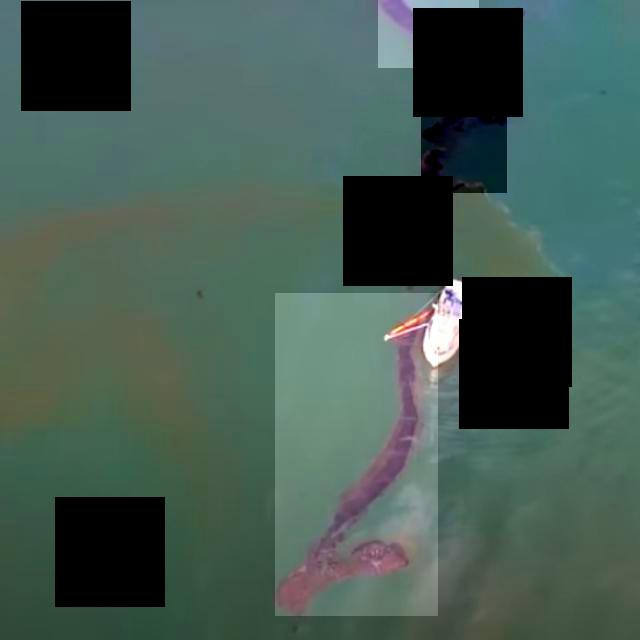oil spill: (275, 294, 438, 616), (421, 91, 507, 193), (379, 0, 479, 68), (431, 77, 444, 97)
